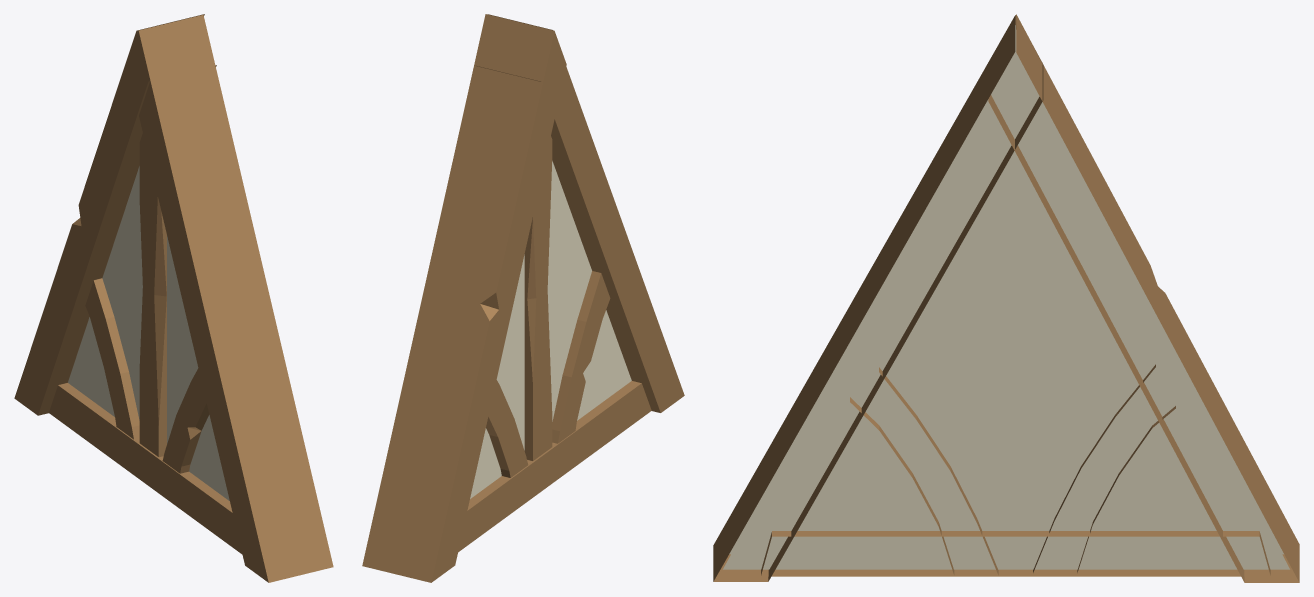
The model's file is SFV_Roof_Wall_S_Empty_002.fbx.
3 views of the same model, side by side, from view 1: azimuth 30°, elevation 25°; view 2: azimuth 150°, elevation 25°; view 3: azimuth 270°, elevation 25° (orthographic). The views are drawn at different scales.
Visible parts, largest first — view 1: SFV_Roof_Wall_S_Empty_002; view 2: SFV_Roof_Wall_S_Empty_002; view 3: SFV_Roof_Wall_S_Empty_002.
Boxes of the visible parts, box(x1,y1,x2,y2) form: SFV_Roof_Wall_S_Empty_002: box(14, 14, 333, 582); SFV_Roof_Wall_S_Empty_002: box(362, 14, 684, 582); SFV_Roof_Wall_S_Empty_002: box(713, 14, 1299, 582).
Bounding box in the file's own units: 46.87 × 300 × 300.
